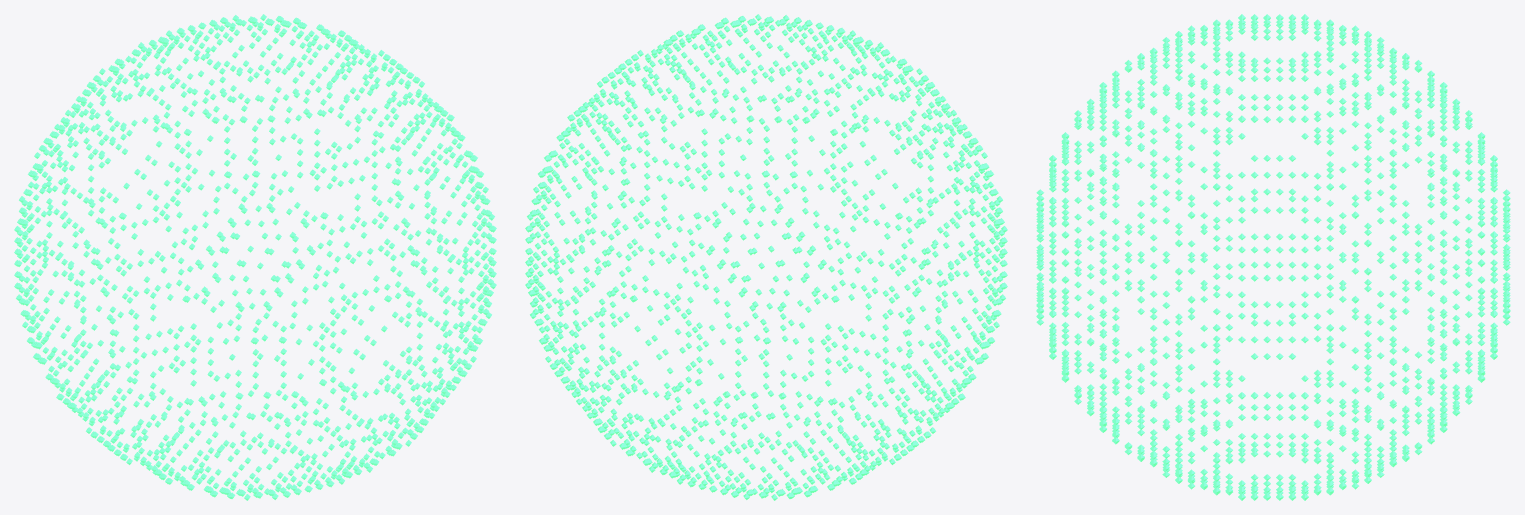
The model's file is orbital_n1_l0_m0_complex_point_cloud.fbx.
The picture shows the model from 3 angles, left to right: view 1: azimuth 30°, elevation 25°; view 2: azimuth 150°, elevation 25°; view 3: azimuth 270°, elevation 25°; orthographic projection.
Parts seen in each view (by area): view 1: orbital_n1_l0_m0_complex_point_cloud; view 2: orbital_n1_l0_m0_complex_point_cloud; view 3: orbital_n1_l0_m0_complex_point_cloud.
Boxes of the visible parts, x1,y1,x2,y2 form: orbital_n1_l0_m0_complex_point_cloud: [14, 14, 496, 500]; orbital_n1_l0_m0_complex_point_cloud: [525, 14, 1007, 500]; orbital_n1_l0_m0_complex_point_cloud: [1036, 14, 1510, 500].
Bounding box in the file's own units: 476 × 476 × 476.
